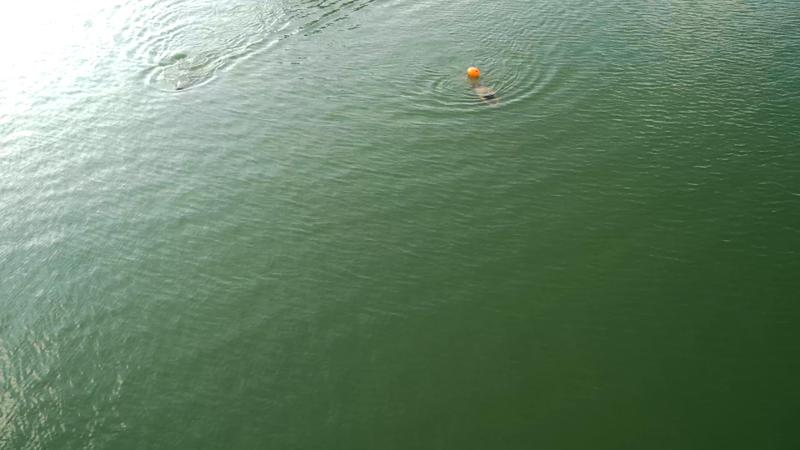swimmers: (471, 82, 500, 110)
